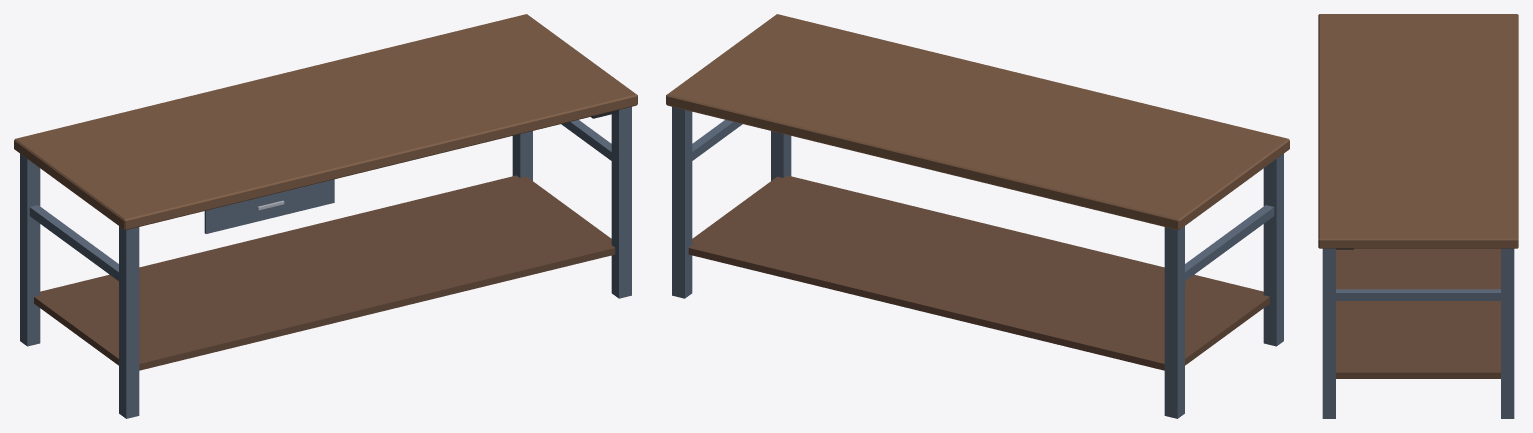
The model's file is workbench.glb.
3 renders of one model, left to right at view 1: azimuth 30°, elevation 25°; view 2: azimuth 150°, elevation 25°; view 3: azimuth 270°, elevation 25°, orthographic. The views are drawn at different scales.
Parts seen in each view (by area): view 1: workbench; view 2: workbench; view 3: workbench.
Part boxes in pixels (x1=…): workbench: x1=14, y1=14, x2=637, y2=418; workbench: x1=666, y1=14, x2=1289, y2=418; workbench: x1=1318, y1=14, x2=1518, y2=418.
Size of the model in its own units: 2.4 by 0.9 by 0.9.
